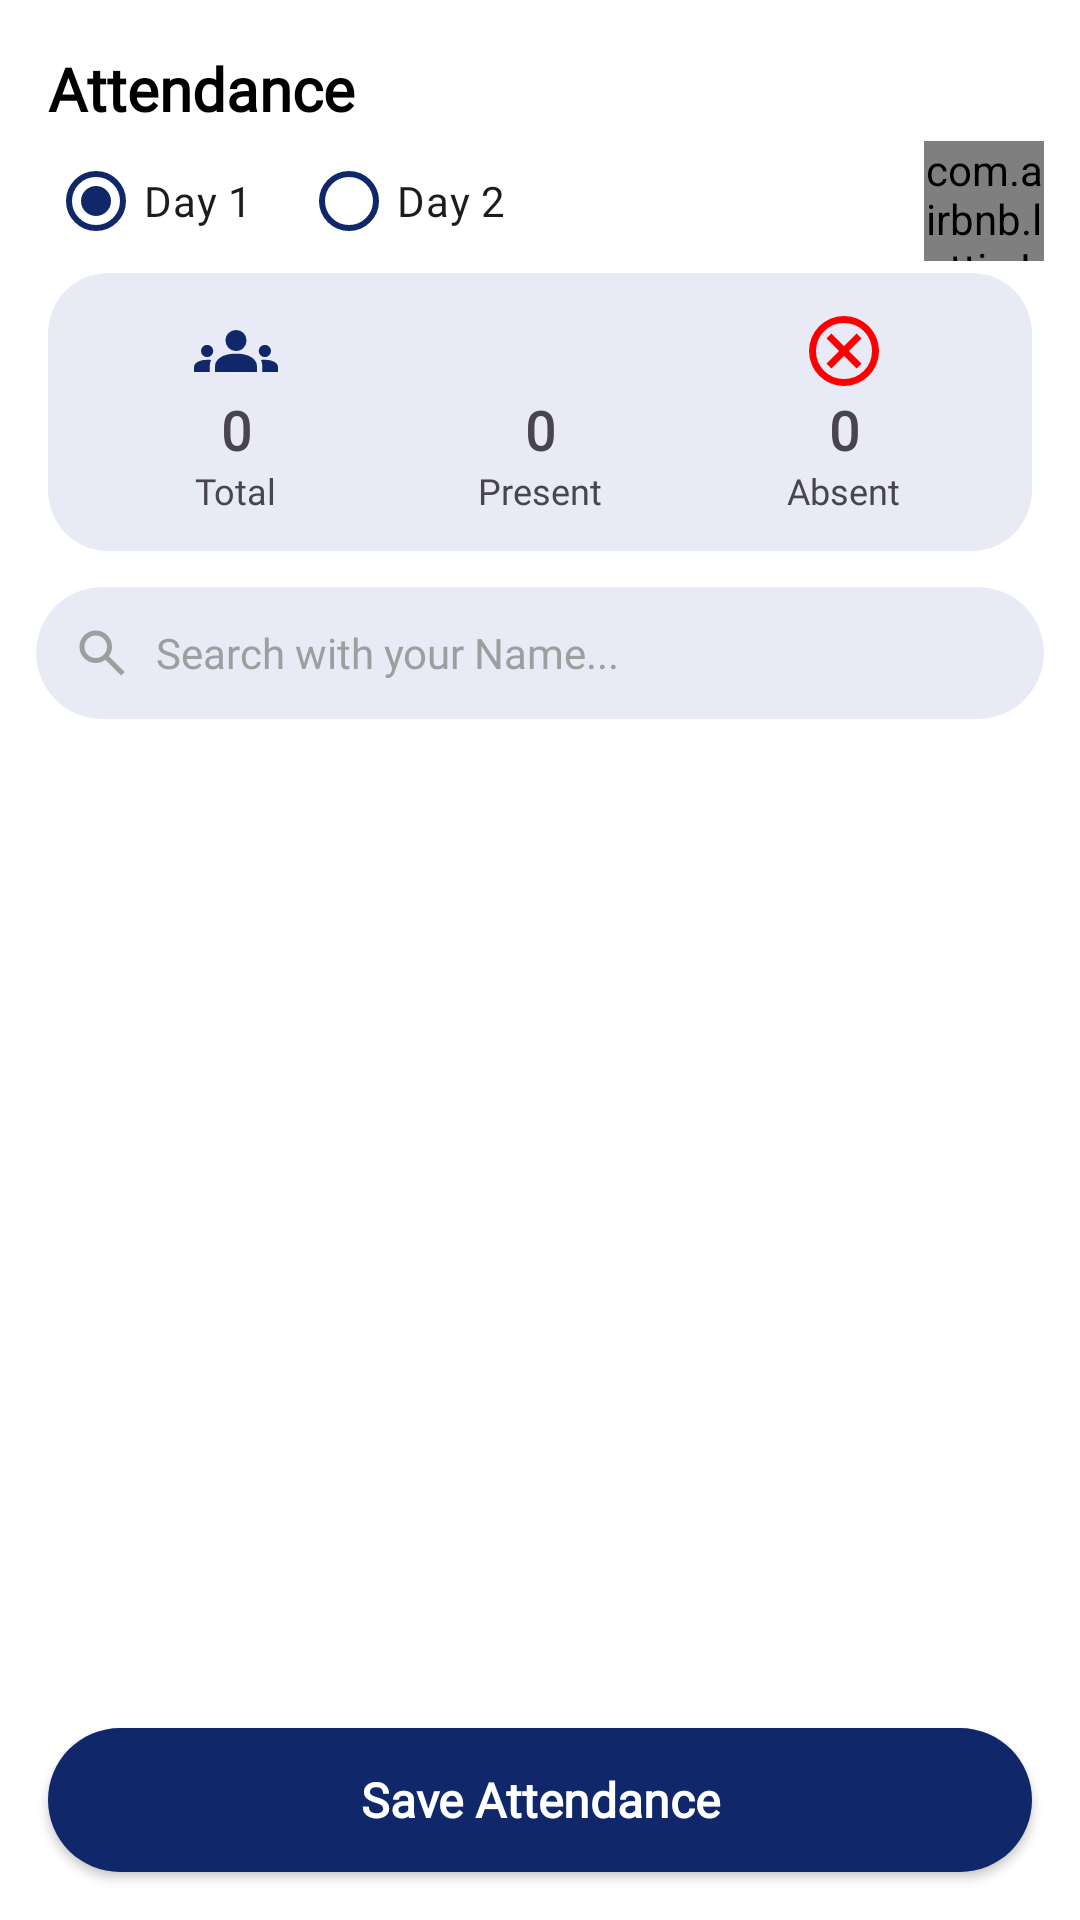

Named icons in this screenshot (1080w x 1920h) and their bounding boxes, bbox=(x1, y1, x2, y2):
team: bbox=(194, 330, 278, 372)
